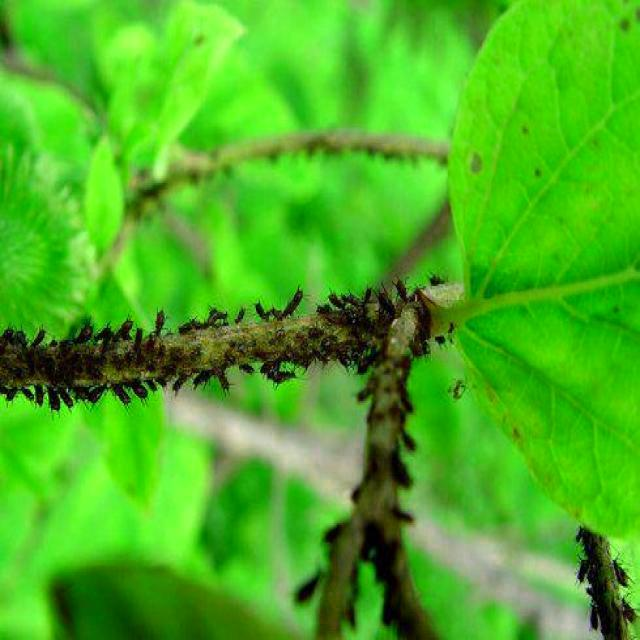aphid: (0, 262, 455, 638), (575, 514, 640, 640)
